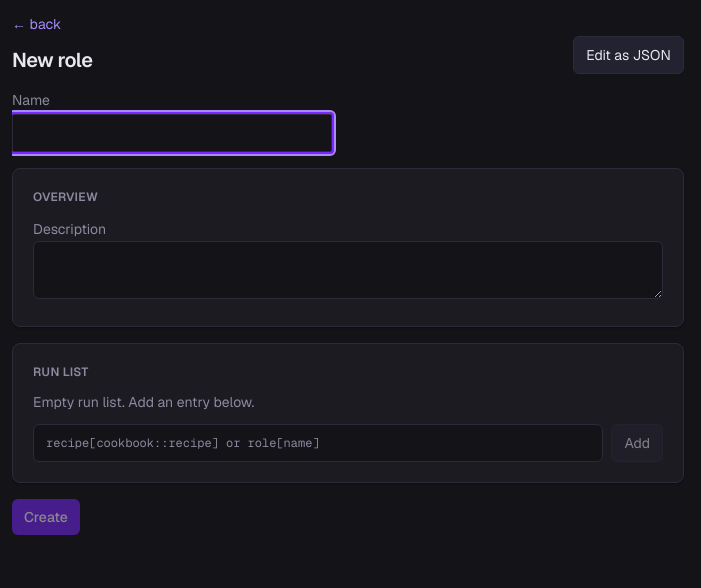
Test case: CreateObjectForm › surfaces a server error and does not navigate
Type "web" into the field labelled "Name" at (172, 133), box 12,114 -> 332,152
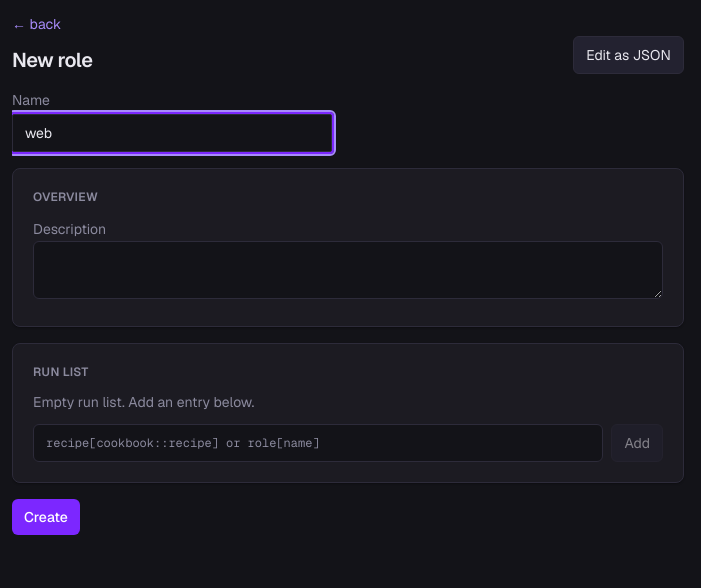
Click the button "Create" at (46, 517), box 12,499 -> 80,535
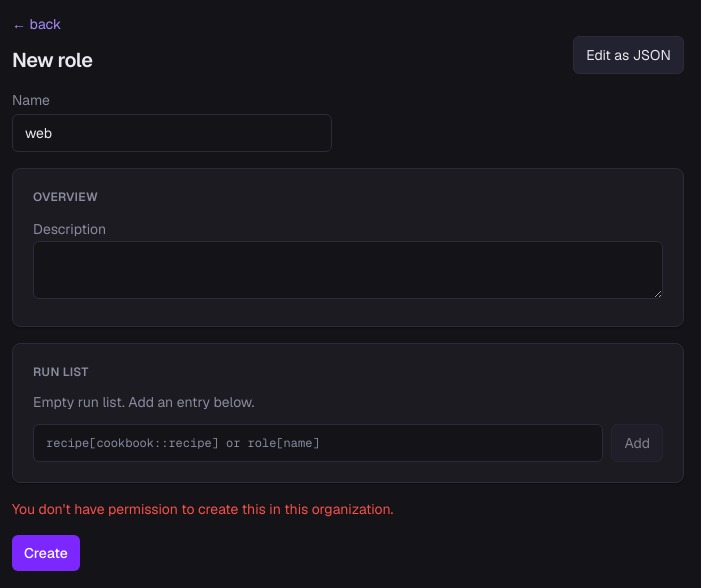
Result: the message shows "permission" at 12,500 -> 393,518
